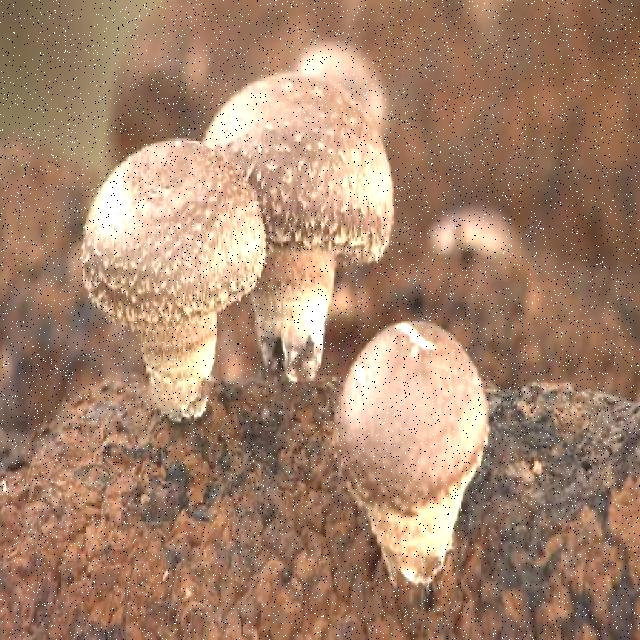Mushroom: (77, 107, 272, 439), (317, 317, 500, 620)
